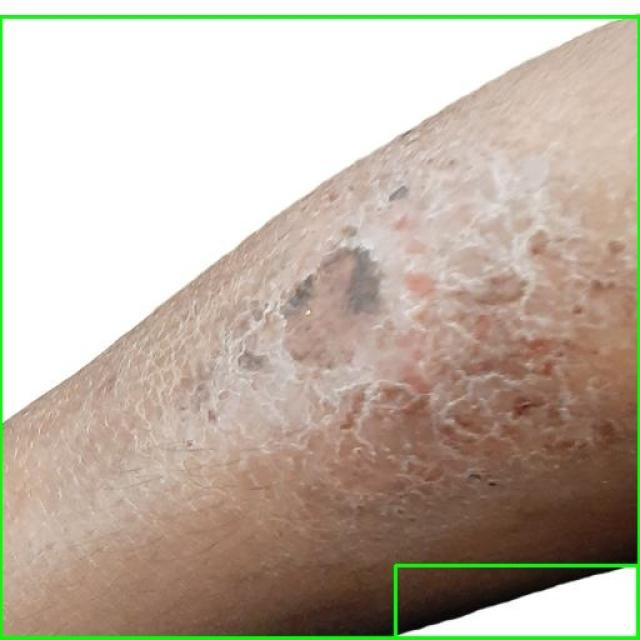Eczema: (0, 16, 639, 639), (396, 565, 639, 639)
